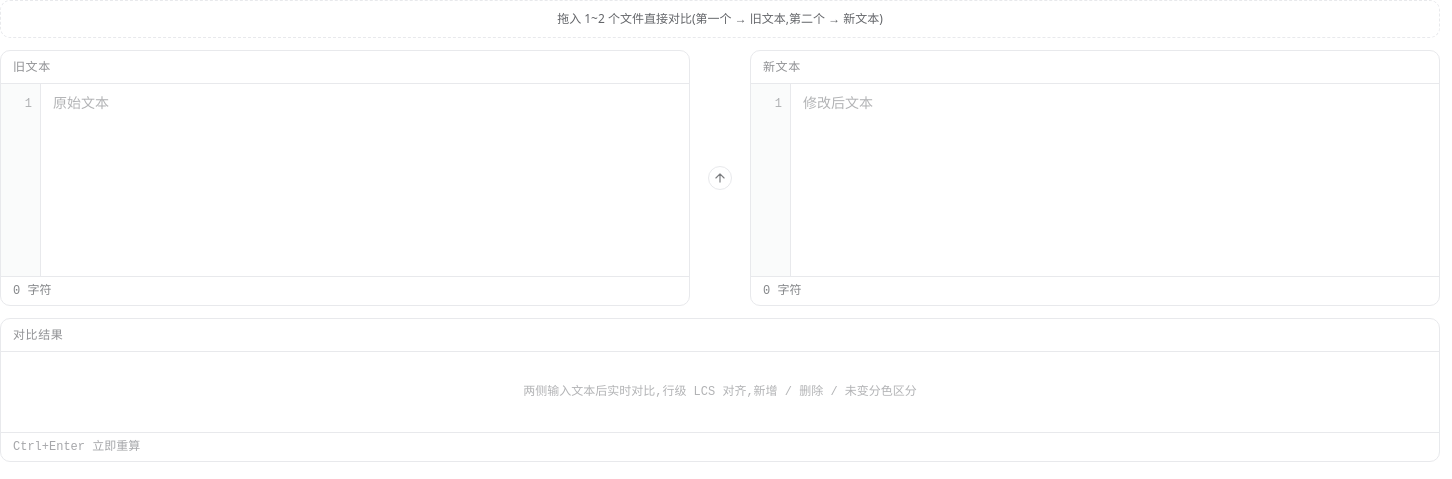
it: TextDiff 实时对比 › 清空输入回到引导态
The width and height of the screenshot is (1452, 479).
In the text box with placeholder "原始文本": (365, 180) x1=41 y1=84 x2=689 y2=276, type "1"
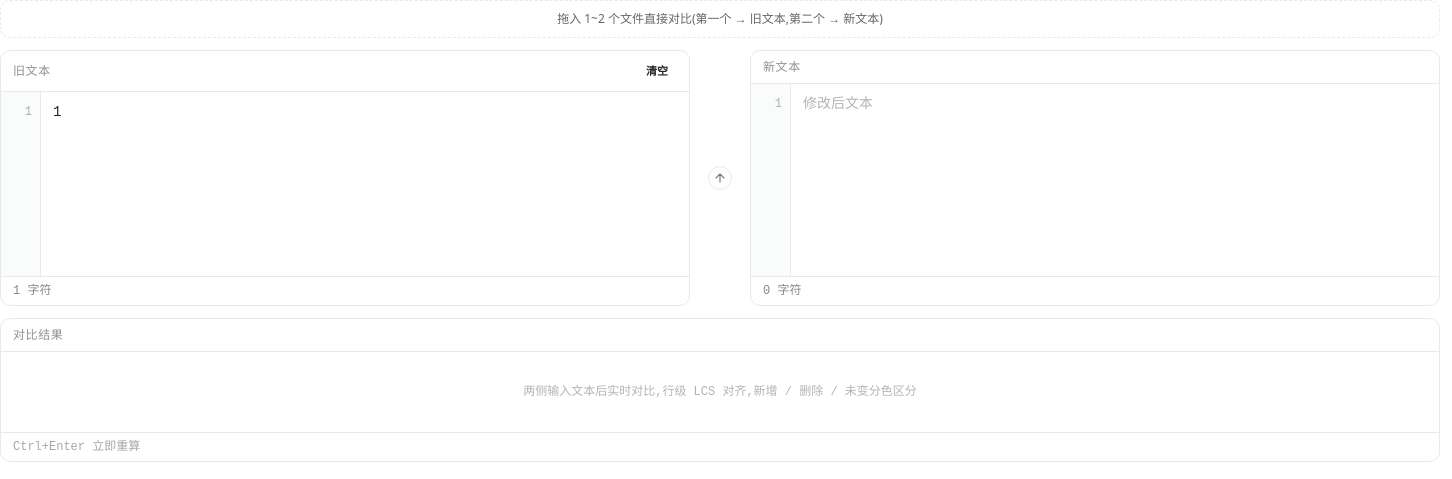
In the text box with placeholder "修改后文本": (1115, 180) x1=791 y1=84 x2=1439 y2=276, type "2"
Wait 150 ms
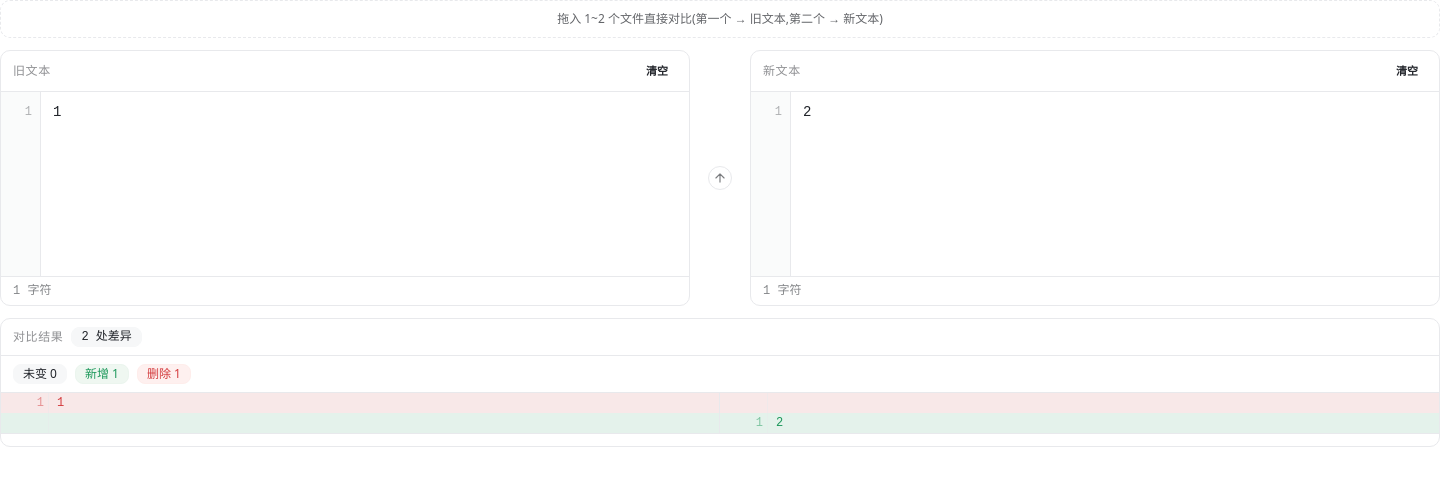
expect the element with test id "diff-rows" is shown: met, box x1=1 y1=393 x2=1439 y2=433
Clear the text box named "原始文本": (365, 184) x1=41 y1=92 x2=689 y2=276
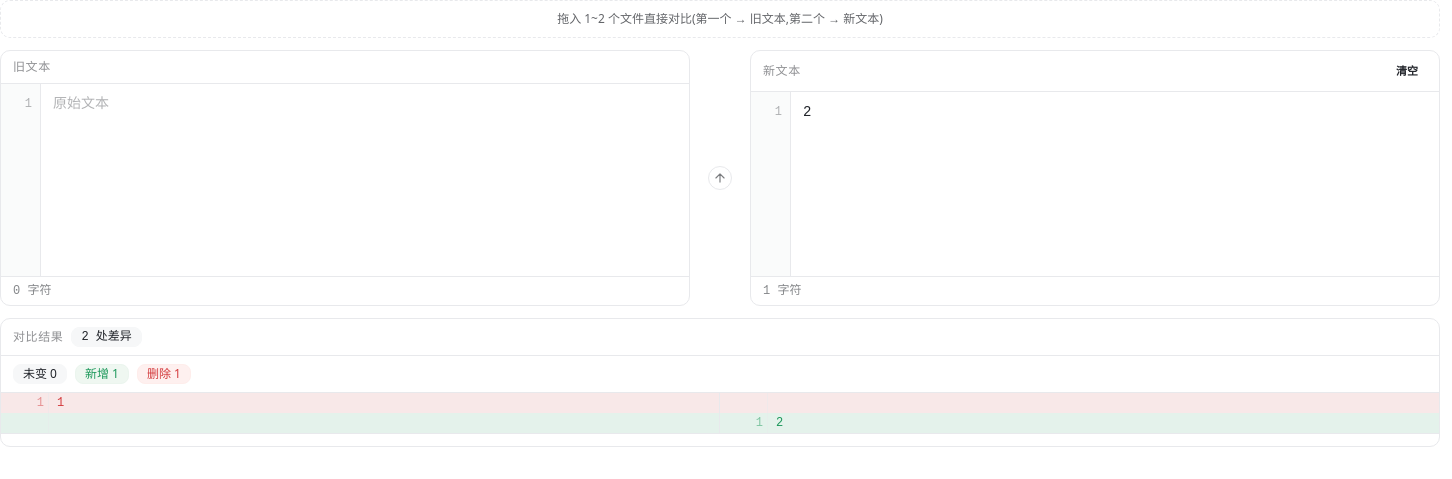
Clear the text box named "修改后文本": (1115, 184) x1=791 y1=92 x2=1439 y2=276
Wait 150 ms
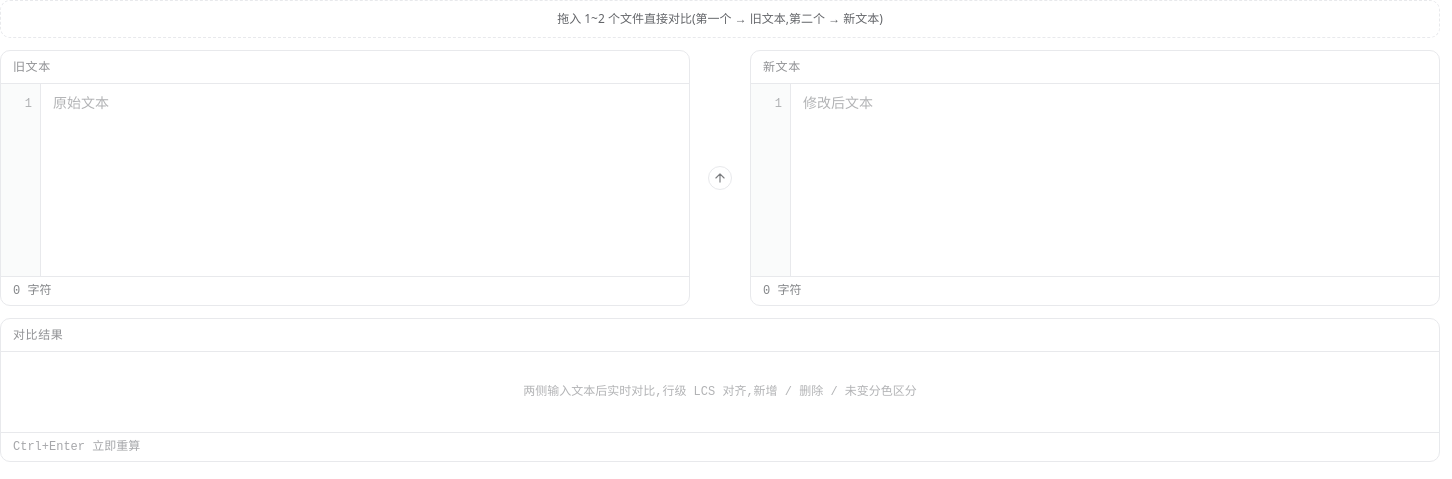
expect the text "实时对比" is shown: met, box x1=523 y1=385 x2=917 y2=399
